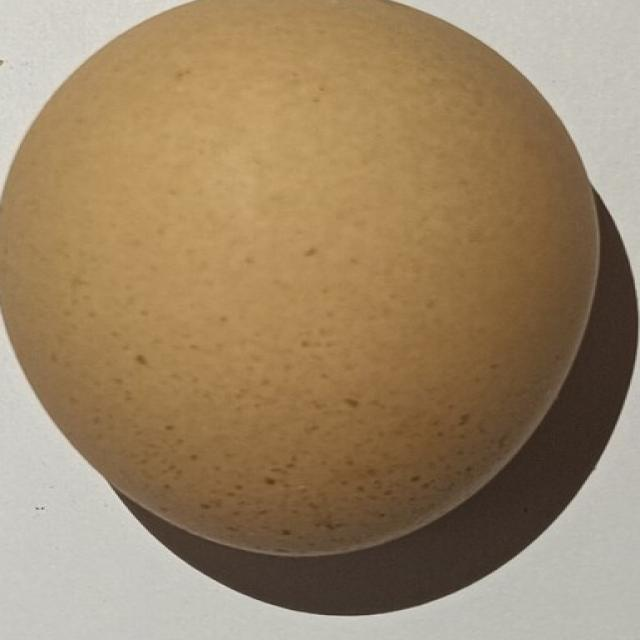unfresh: (0, 0, 617, 569)
